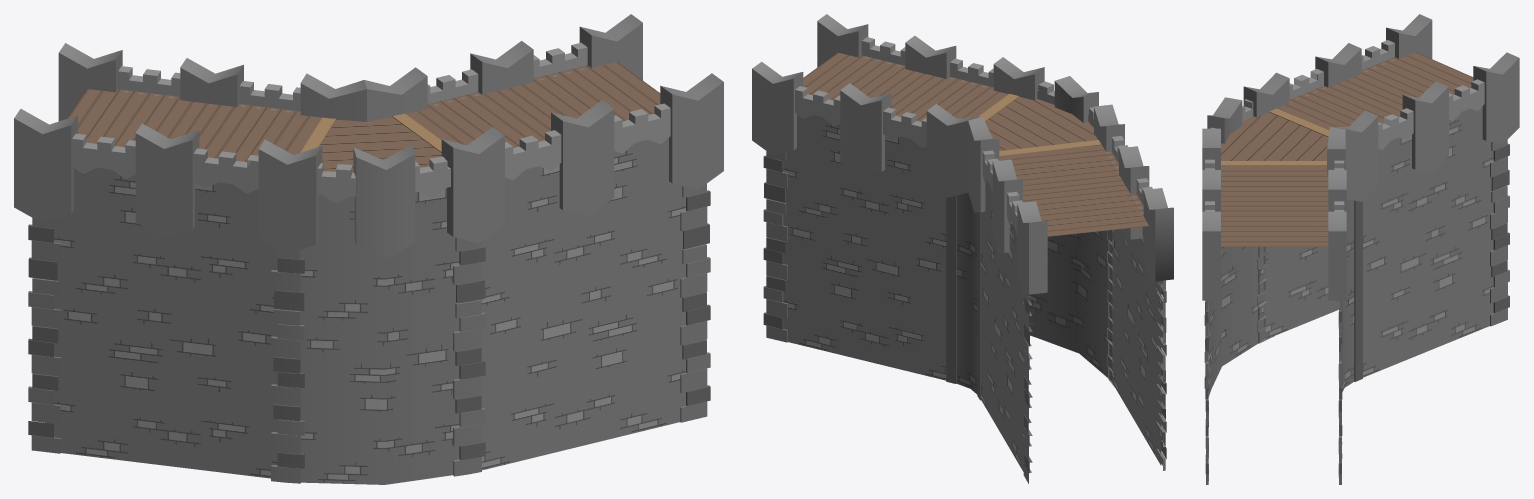
The model's file is wallRound45.gltf.
3 renders of one model, left to right at view 1: azimuth 30°, elevation 25°; view 2: azimuth 150°, elevation 25°; view 3: azimuth 270°, elevation 25°, orthographic. The views are drawn at different scales.
Parts seen in each view (by area): view 1: wallRound45; view 2: wallRound45; view 3: wallRound45.
Part boxes in pixels (x1,y1,x2,y2): wallRound45: (14, 14, 723, 484); wallRound45: (752, 14, 1173, 483); wallRound45: (1202, 14, 1519, 484).
Bounding box in the file's own units: 23.94 × 13.38 × 14.82.
7 materials, 2 textured.
